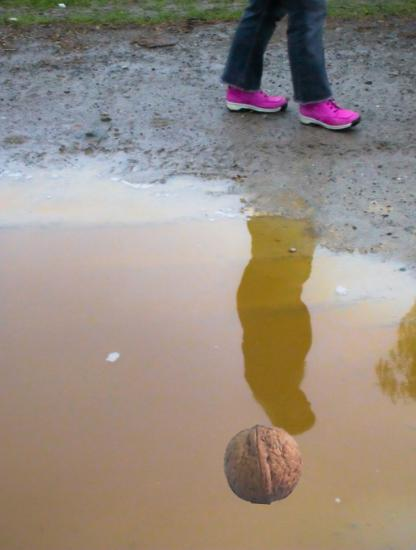Walnut: (223, 424, 304, 505)
